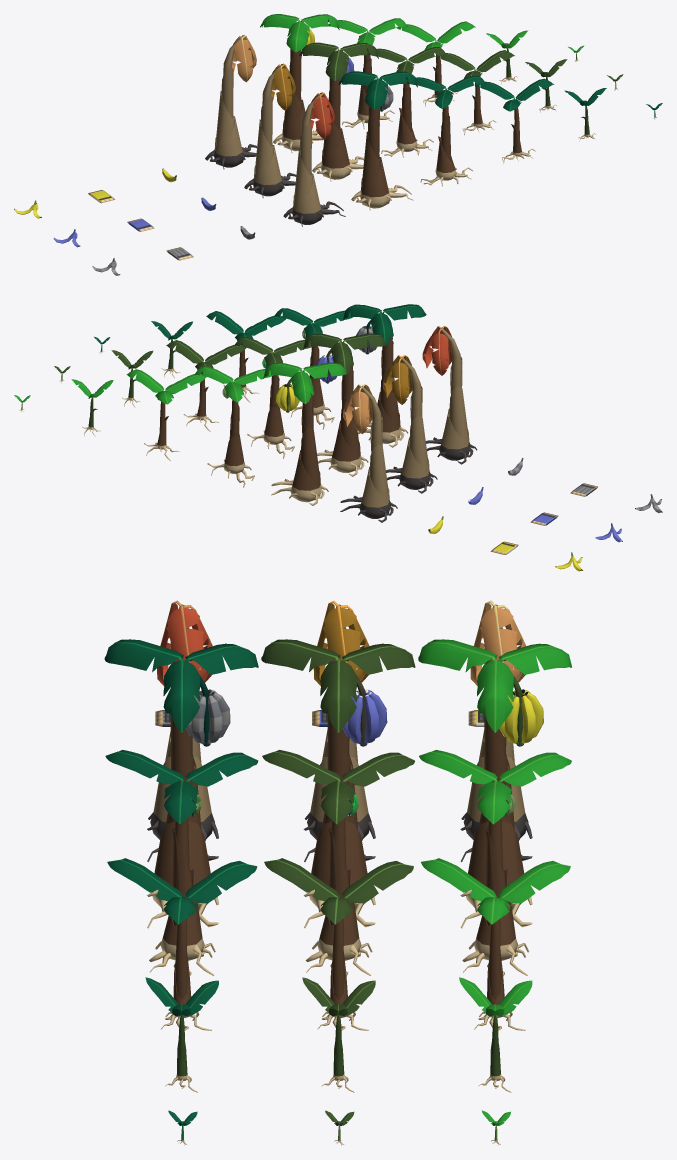
Rendered from BananaPlants.fbx.
The picture shows the model from 3 angles, top to bottom: view 1: azimuth 30°, elevation 25°; view 2: azimuth 150°, elevation 25°; view 3: azimuth 270°, elevation 25°; orthographic projection. The views are drawn at different scales.
Parts seen in each view (by area): view 1: MimanaHarvest, BluespaceBananaHarvest, MimanaDead, BananaDead, BluespaceBananaDead, BananaHarvest, MimanaStage4, BluespaceBananaStage4, BananaStage4, MimanaStage3, BluespaceBananaStage3, BananaStage3 (+3 smaller); view 2: BananaHarvest, BluespaceBananaHarvest, BananaDead, MimanaDead, BluespaceBananaDead, MimanaHarvest, BananaStage4, BluespaceBananaStage4, MimanaStage4, BananaStage3, BluespaceBananaStage3, MimanaStage3 (+3 smaller); view 3: BluespaceBananaHarvest, BananaHarvest, MimanaHarvest, BananaStage4, BluespaceBananaStage4, MimanaStage4, BananaStage3, BluespaceBananaStage3, MimanaStage3, BananaDead, MimanaDead, BluespaceBananaDead (+3 smaller).
Boxes of the visible parts, bbox=[...] form: MimanaHarvest: bbox=[338, 71, 417, 210]; BluespaceBananaHarvest: bbox=[299, 42, 378, 181]; MimanaDead: bbox=[283, 92, 345, 226]; BananaDead: bbox=[205, 35, 257, 169]; BluespaceBananaDead: bbox=[244, 63, 296, 198]; BananaHarvest: bbox=[260, 14, 339, 152]; MimanaStage4: bbox=[406, 75, 485, 186]; BluespaceBananaStage4: bbox=[367, 47, 446, 157]; BananaStage4: bbox=[328, 18, 407, 129]; MimanaStage3: bbox=[474, 78, 554, 163]; BluespaceBananaStage3: bbox=[435, 50, 514, 135]; BananaStage3: bbox=[396, 21, 475, 106]; BananaHarvest: bbox=[263, 362, 346, 505]; BluespaceBananaHarvest: bbox=[303, 333, 386, 476]; BananaDead: bbox=[340, 384, 397, 522]; MimanaDead: bbox=[422, 325, 477, 464]; BluespaceBananaDead: bbox=[383, 355, 437, 493]; MimanaHarvest: bbox=[343, 304, 426, 447]; BananaStage4: bbox=[195, 366, 273, 487]; BluespaceBananaStage4: bbox=[235, 337, 312, 458]; MimanaStage4: bbox=[274, 308, 352, 429]; BananaStage3: bbox=[126, 369, 206, 460]; BluespaceBananaStage3: bbox=[166, 340, 246, 431]; MimanaStage3: bbox=[206, 311, 285, 402]; BluespaceBananaHarvest: bbox=[261, 639, 415, 928]; BananaHarvest: bbox=[418, 639, 571, 928]; MimanaHarvest: bbox=[104, 639, 258, 928]; BananaStage4: bbox=[419, 750, 571, 975]; BluespaceBananaStage4: bbox=[262, 750, 414, 975]; MimanaStage4: bbox=[105, 750, 258, 975]; BananaStage3: bbox=[421, 858, 570, 1030]; BluespaceBananaStage3: bbox=[264, 858, 413, 1030]; MimanaStage3: bbox=[107, 858, 257, 1030]; BananaDead: bbox=[460, 600, 532, 861]; MimanaDead: bbox=[147, 600, 218, 861]; BluespaceBananaDead: bbox=[303, 600, 375, 861].
Bounding box in the file's own units: 8.32 × 1.81 × 2.98.
